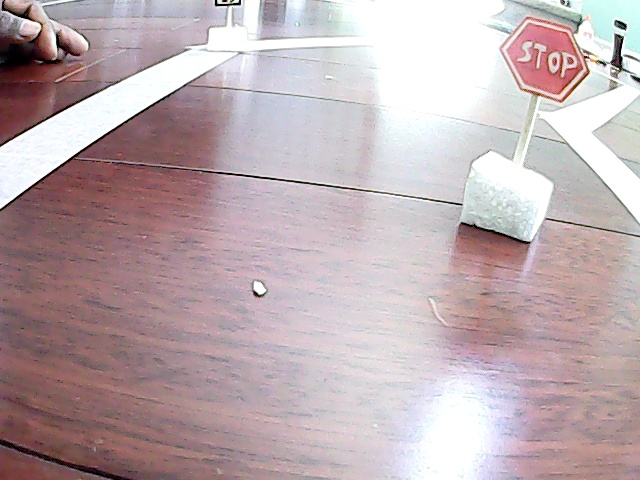stop: (480, 17, 582, 258)
